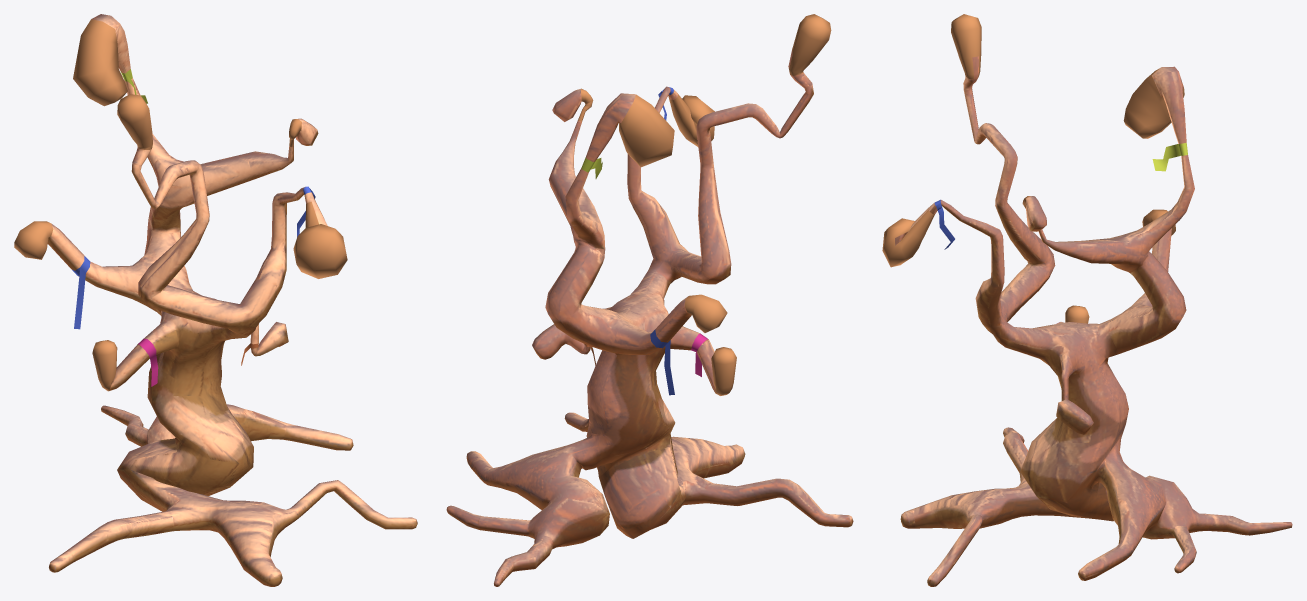
Rendered from AdansoniaTree.glb.
The picture shows the model from 3 angles, left to right: view 1: azimuth 30°, elevation 25°; view 2: azimuth 150°, elevation 25°; view 3: azimuth 270°, elevation 25°; orthographic projection. The views are drawn at different scales.
Visible parts, largest first — view 1: tree烘焙.001; view 2: tree烘焙.001; view 3: tree烘焙.001.
Part boxes in pixels (box(x1,y1,x2,y2)): tree烘焙.001: box(14, 14, 417, 586); tree烘焙.001: box(446, 14, 853, 586); tree烘焙.001: box(882, 14, 1292, 586).
Size of what is drawn, in the model's own units: 6.64 by 9.11 by 7.32.
6 materials, 1 textured.
